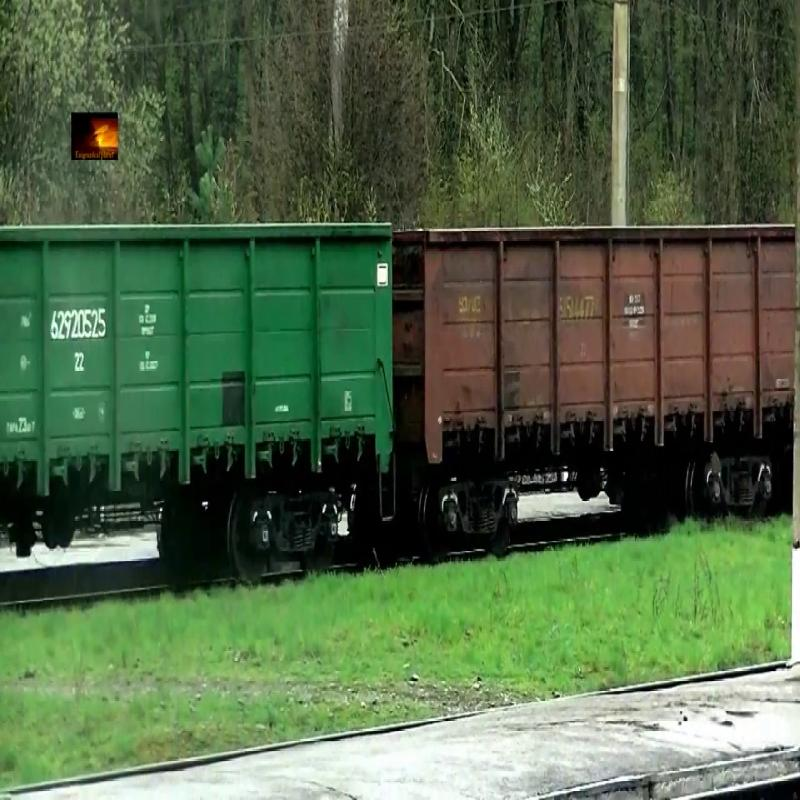train: (1, 224, 393, 509), (396, 222, 796, 471)
